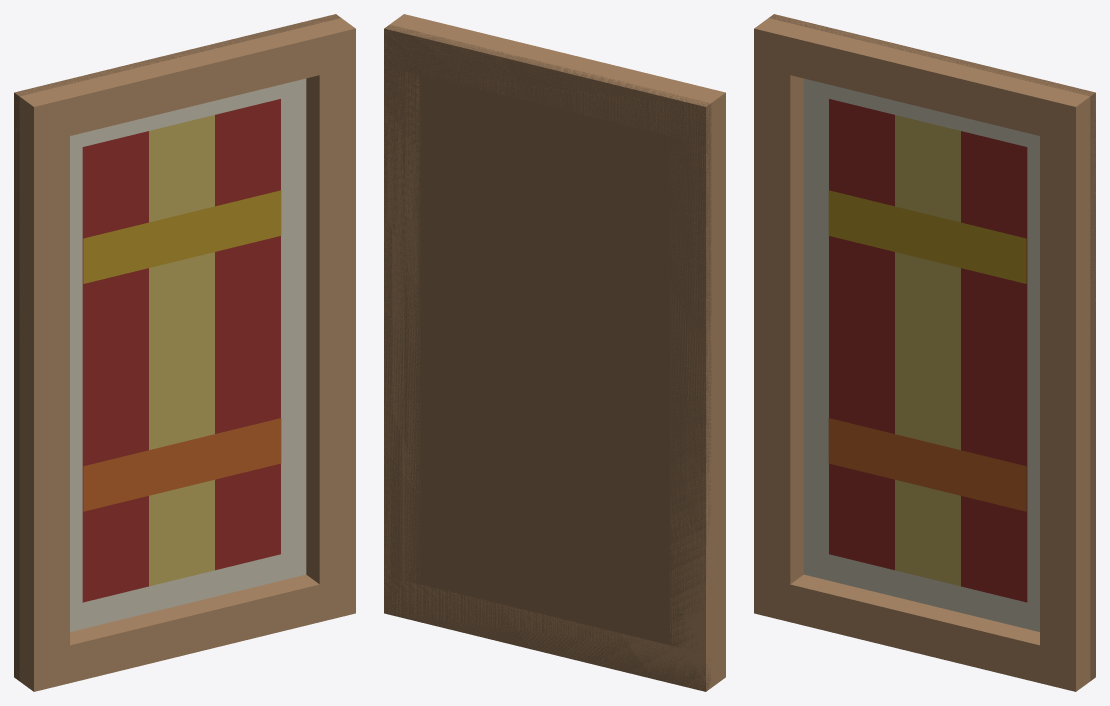
The model's file is picture-frame-21.glb.
3 views of the same model, side by side, from view 1: azimuth 30°, elevation 25°; view 2: azimuth 150°, elevation 25°; view 3: azimuth 330°, elevation 25° (orthographic).
Visible parts, largest first — view 1: picture_frame_21; view 2: picture_frame_21; view 3: picture_frame_21.
Part boxes in pixels (left/top/right/bottom): picture_frame_21: left=14, top=14, right=355, bottom=691; picture_frame_21: left=384, top=14, right=725, bottom=691; picture_frame_21: left=754, top=14, right=1095, bottom=691.
Size of the model in its own units: 0.4098 by 0.7118 by 0.0439.
